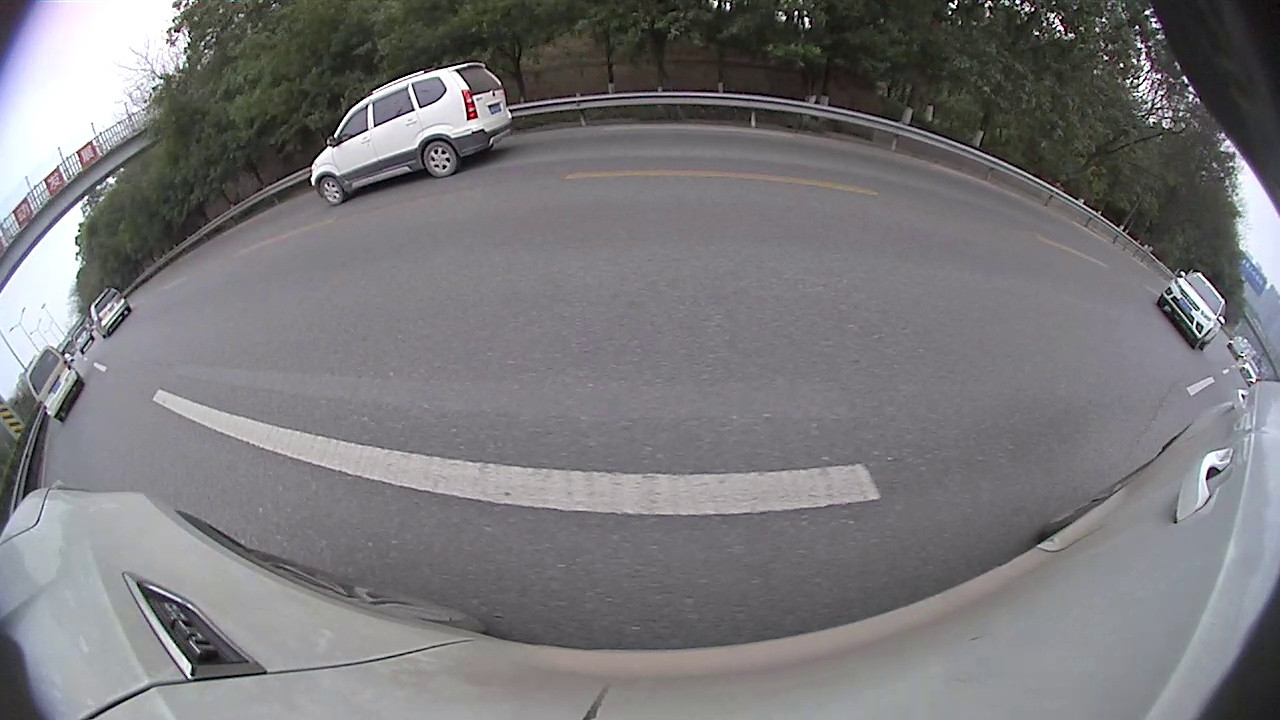car: (309, 60, 514, 207), (1155, 268, 1228, 352), (25, 345, 87, 423), (88, 286, 133, 340), (71, 324, 96, 356)
front: (320, 178, 342, 205)
rear: (423, 143, 457, 176)
